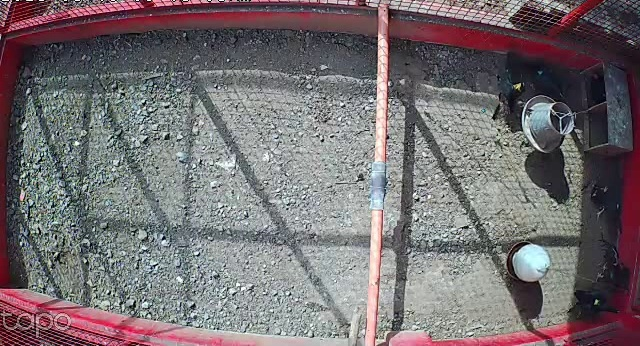Chicken: (568, 283, 624, 319)
Rooster: (590, 237, 636, 300)
Saddle_Color_Yellow: (511, 80, 526, 90)
Saddle_Color_YellowGreen: (594, 299, 603, 306)
